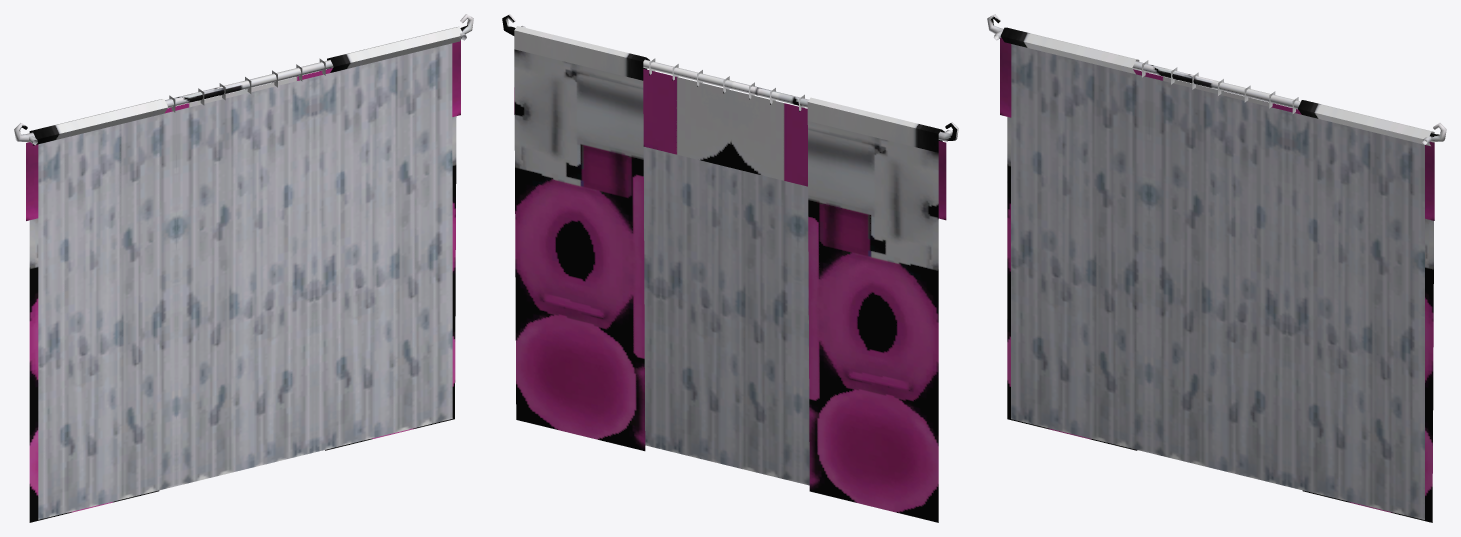
File: furni_0200530.FBX
3 renders of one model, left to right at view 1: azimuth 30°, elevation 25°; view 2: azimuth 150°, elevation 25°; view 3: azimuth 330°, elevation 25°, orthographic.
Visible parts, largest first — view 1: furni_0200530; view 2: furni_0200530; view 3: furni_0200530.
Boxes of the visible parts, x1,y1,x2,y2 form: furni_0200530: (14, 14, 473, 522); furni_0200530: (502, 14, 958, 522); furni_0200530: (987, 14, 1446, 522).
Size of the model in its own units: 328 by 277 by 11.25.
2 materials, 2 textured.
